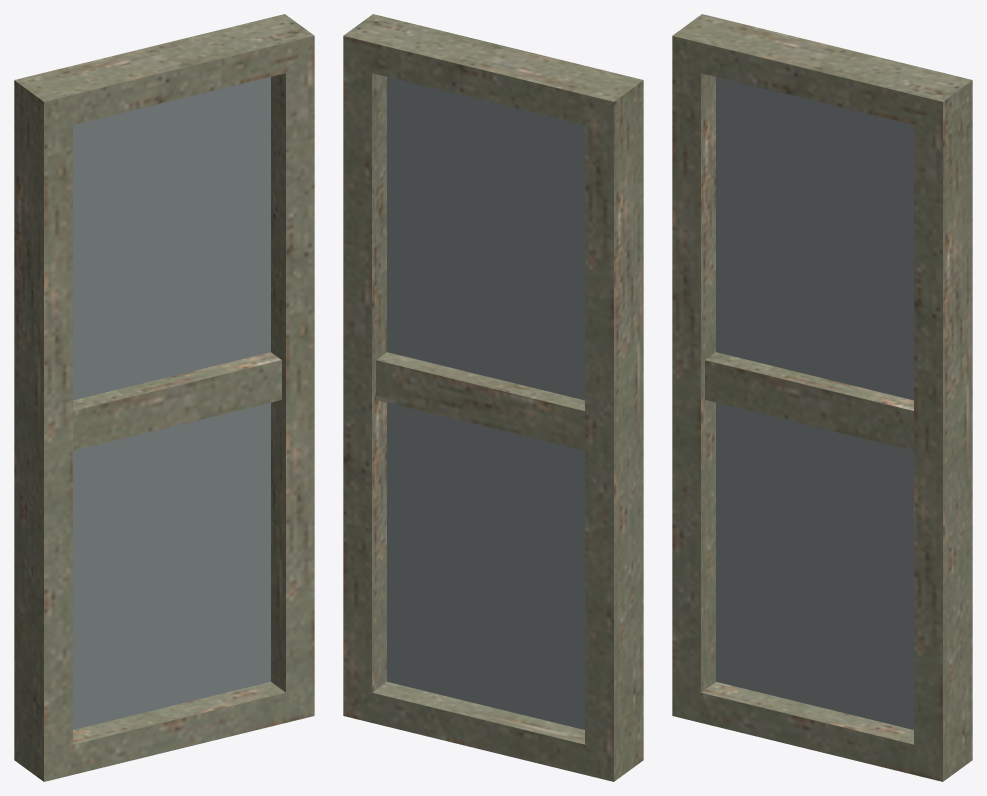
File: TimberWindow_500x1200_Insert.fbx
3 renders of one model, left to right at view 1: azimuth 30°, elevation 25°; view 2: azimuth 150°, elevation 25°; view 3: azimuth 330°, elevation 25°, orthographic.
Parts seen in each view (by area): view 1: TimberWindow_500x1200_Insert; view 2: TimberWindow_500x1200_Insert; view 3: TimberWindow_500x1200_Insert.
Part boxes in pixels (x1,y1,x2,y2): TimberWindow_500x1200_Insert: [14, 14, 314, 781]; TimberWindow_500x1200_Insert: [343, 14, 643, 781]; TimberWindow_500x1200_Insert: [672, 14, 972, 781].
Size of the model in its own units: 50 by 120 by 9.55.
